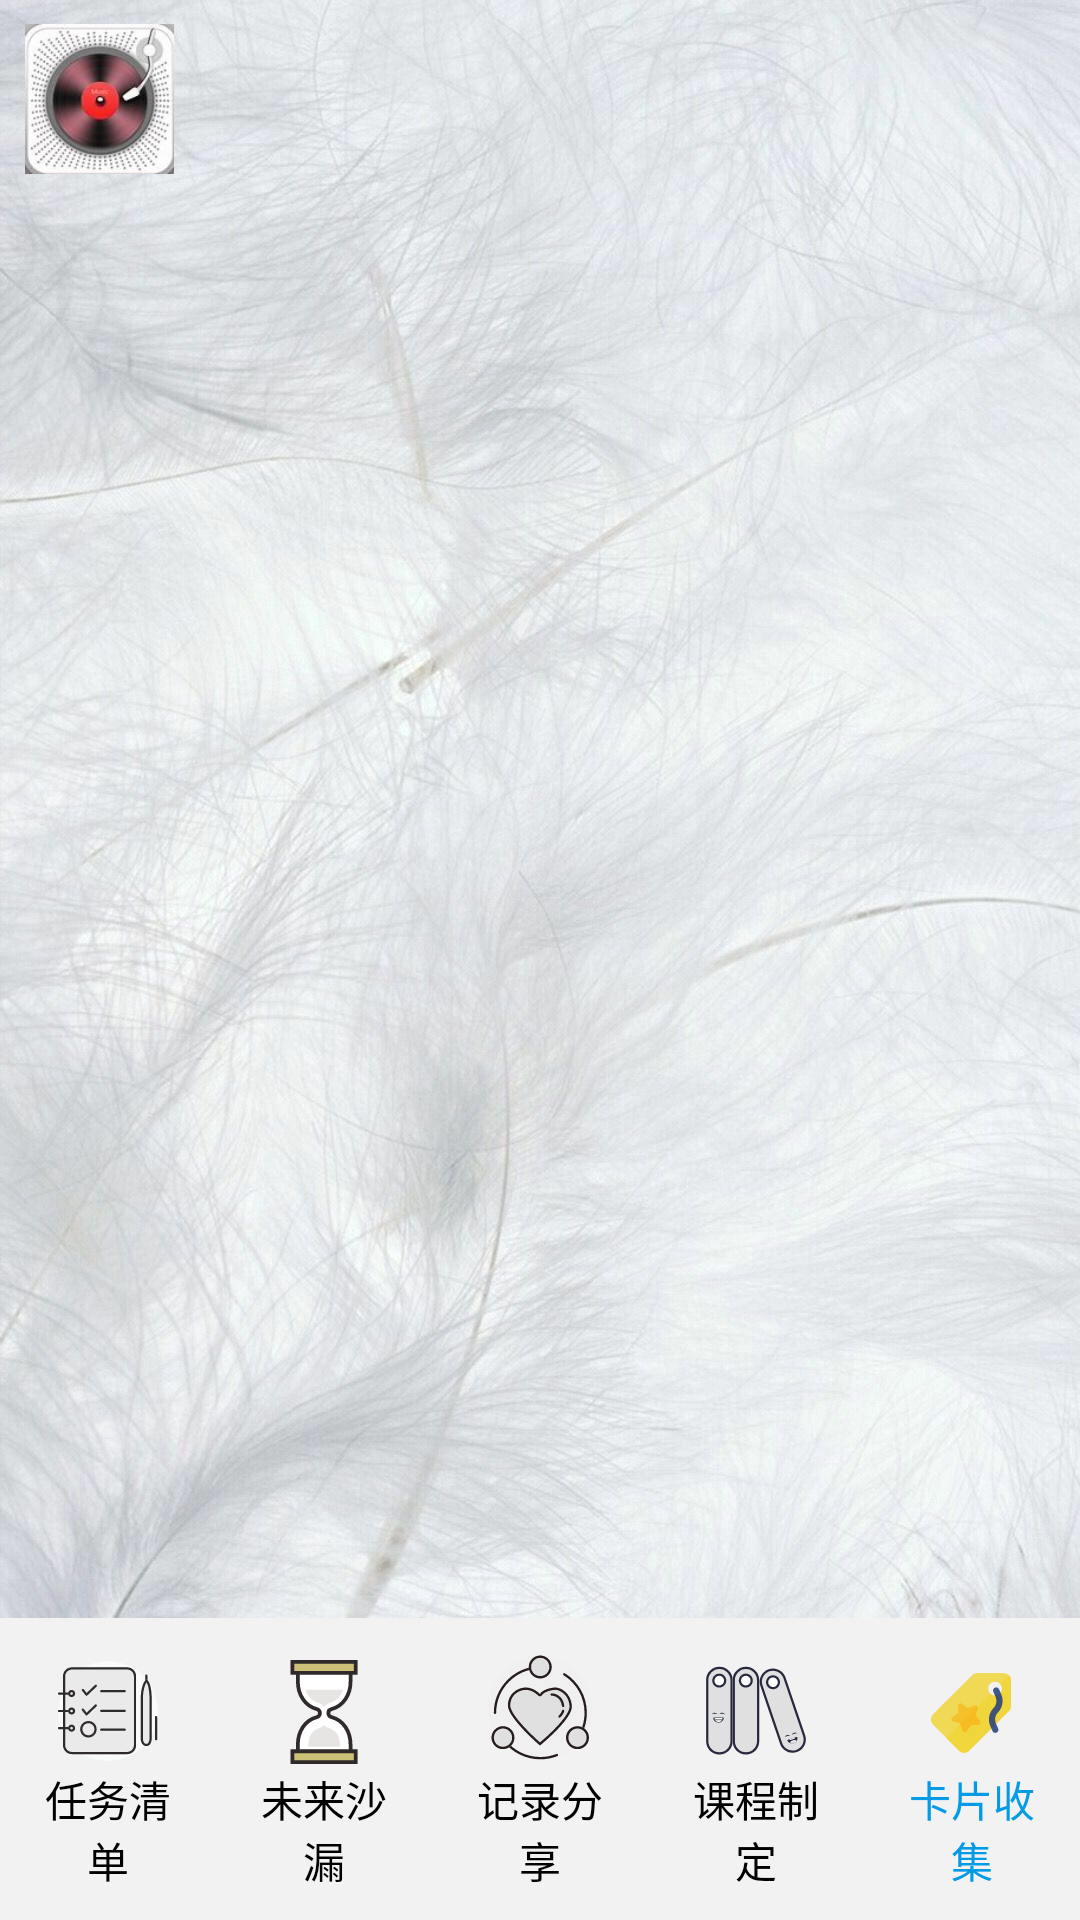

Point at icon controls on the screen. Image size 1080 × 1920, points as point (x, y).
play: point (99, 99)
